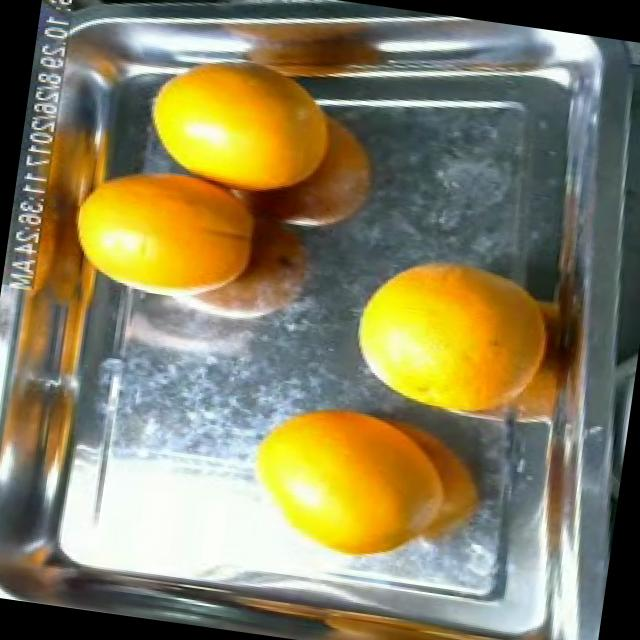Fruit: (333, 230, 547, 432)
